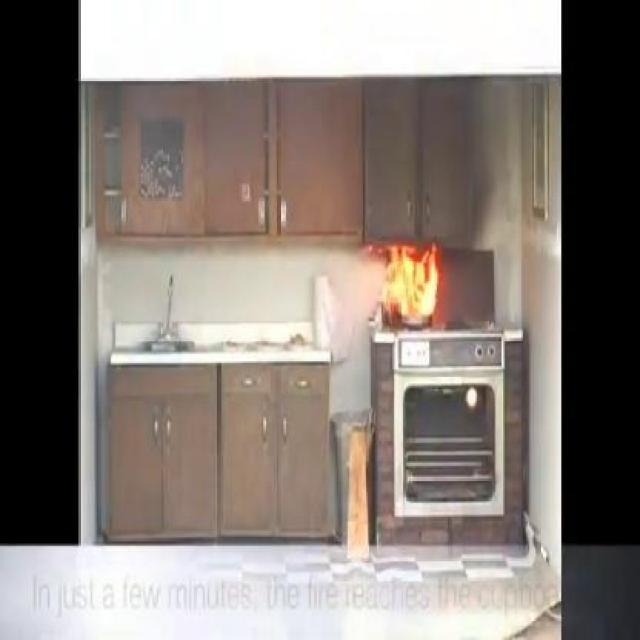fire: (375, 244, 440, 328)
